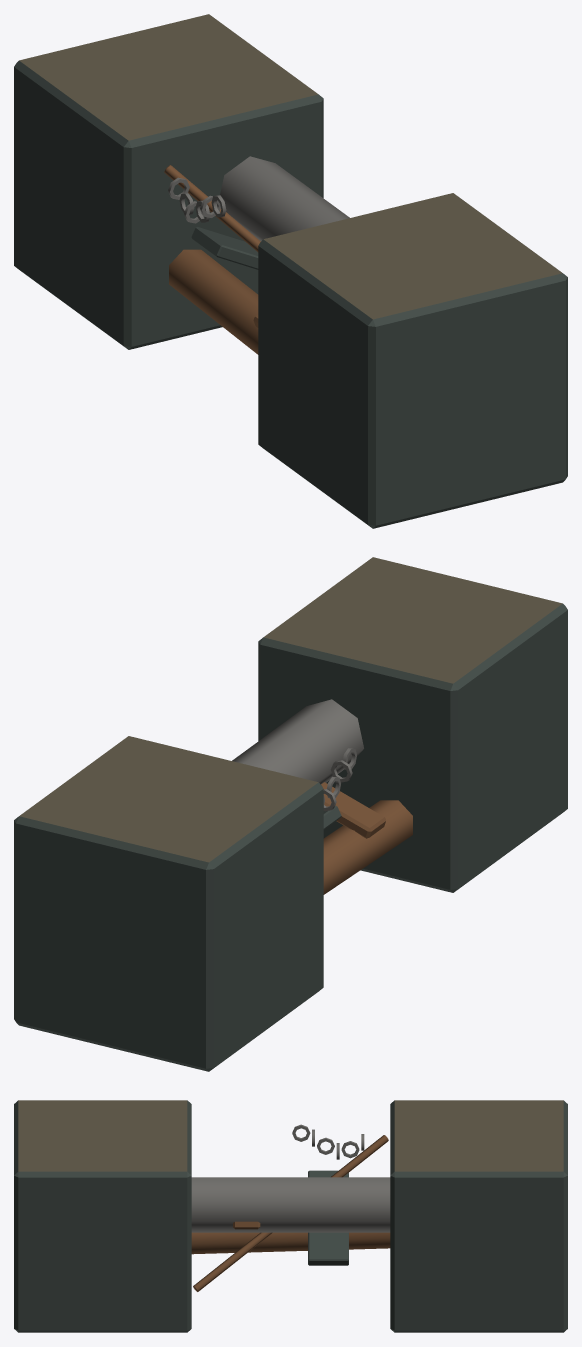
Rendered from R4C_STRUT_STANDARD_LOD1.fbx.
3 views of the same model, one above another, from view 1: azimuth 30°, elevation 25°; view 2: azimuth 150°, elevation 25°; view 3: azimuth 270°, elevation 25° (orthographic). The views are drawn at different scales.
Parts seen in each view (by area): view 1: R4C_STRUT_STANDARD_LOD1; view 2: R4C_STRUT_STANDARD_LOD1; view 3: R4C_STRUT_STANDARD_LOD1.
Boxes of the visible parts, x1=… form: R4C_STRUT_STANDARD_LOD1: x1=14, y1=14, x2=567, y2=528; R4C_STRUT_STANDARD_LOD1: x1=14, y1=557, x2=567, y2=1071; R4C_STRUT_STANDARD_LOD1: x1=14, y1=1100, x2=567, y2=1332.
Bounding box in the file's own units: 0.52 × 0.52 × 1.62.
